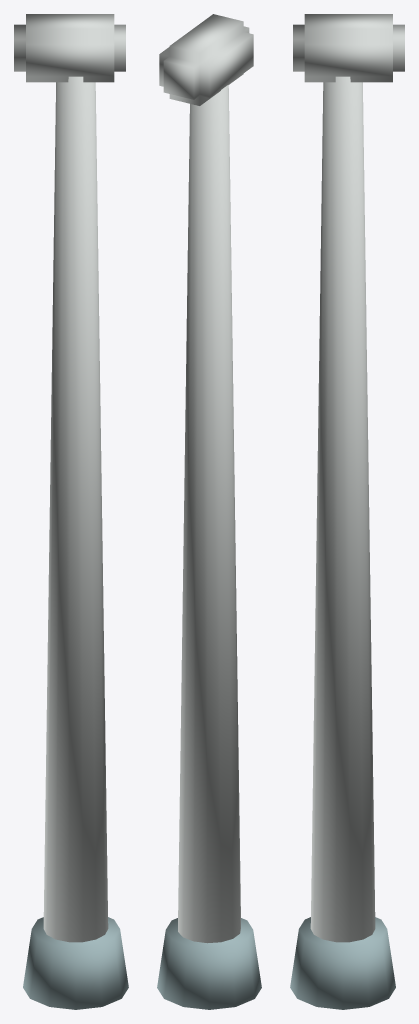
File: wind-tower.glb
The picture shows the model from 3 angles, left to right: view 1: azimuth 90°, elevation 25°; view 2: azimuth 150°, elevation 25°; view 3: azimuth 270°, elevation 25°; orthographic projection.
Parts seen in each view (by area): view 1: WindTower; view 2: WindTower; view 3: WindTower.
Boxes of the visible parts, left/top/right/bottom form: WindTower: left=14, top=14, right=128, bottom=1009; WindTower: left=157, top=14, right=261, bottom=1009; WindTower: left=290, top=14, right=404, bottom=1009.
Bounding box in the file's own units: 0.36 × 3.62 × 0.39.
